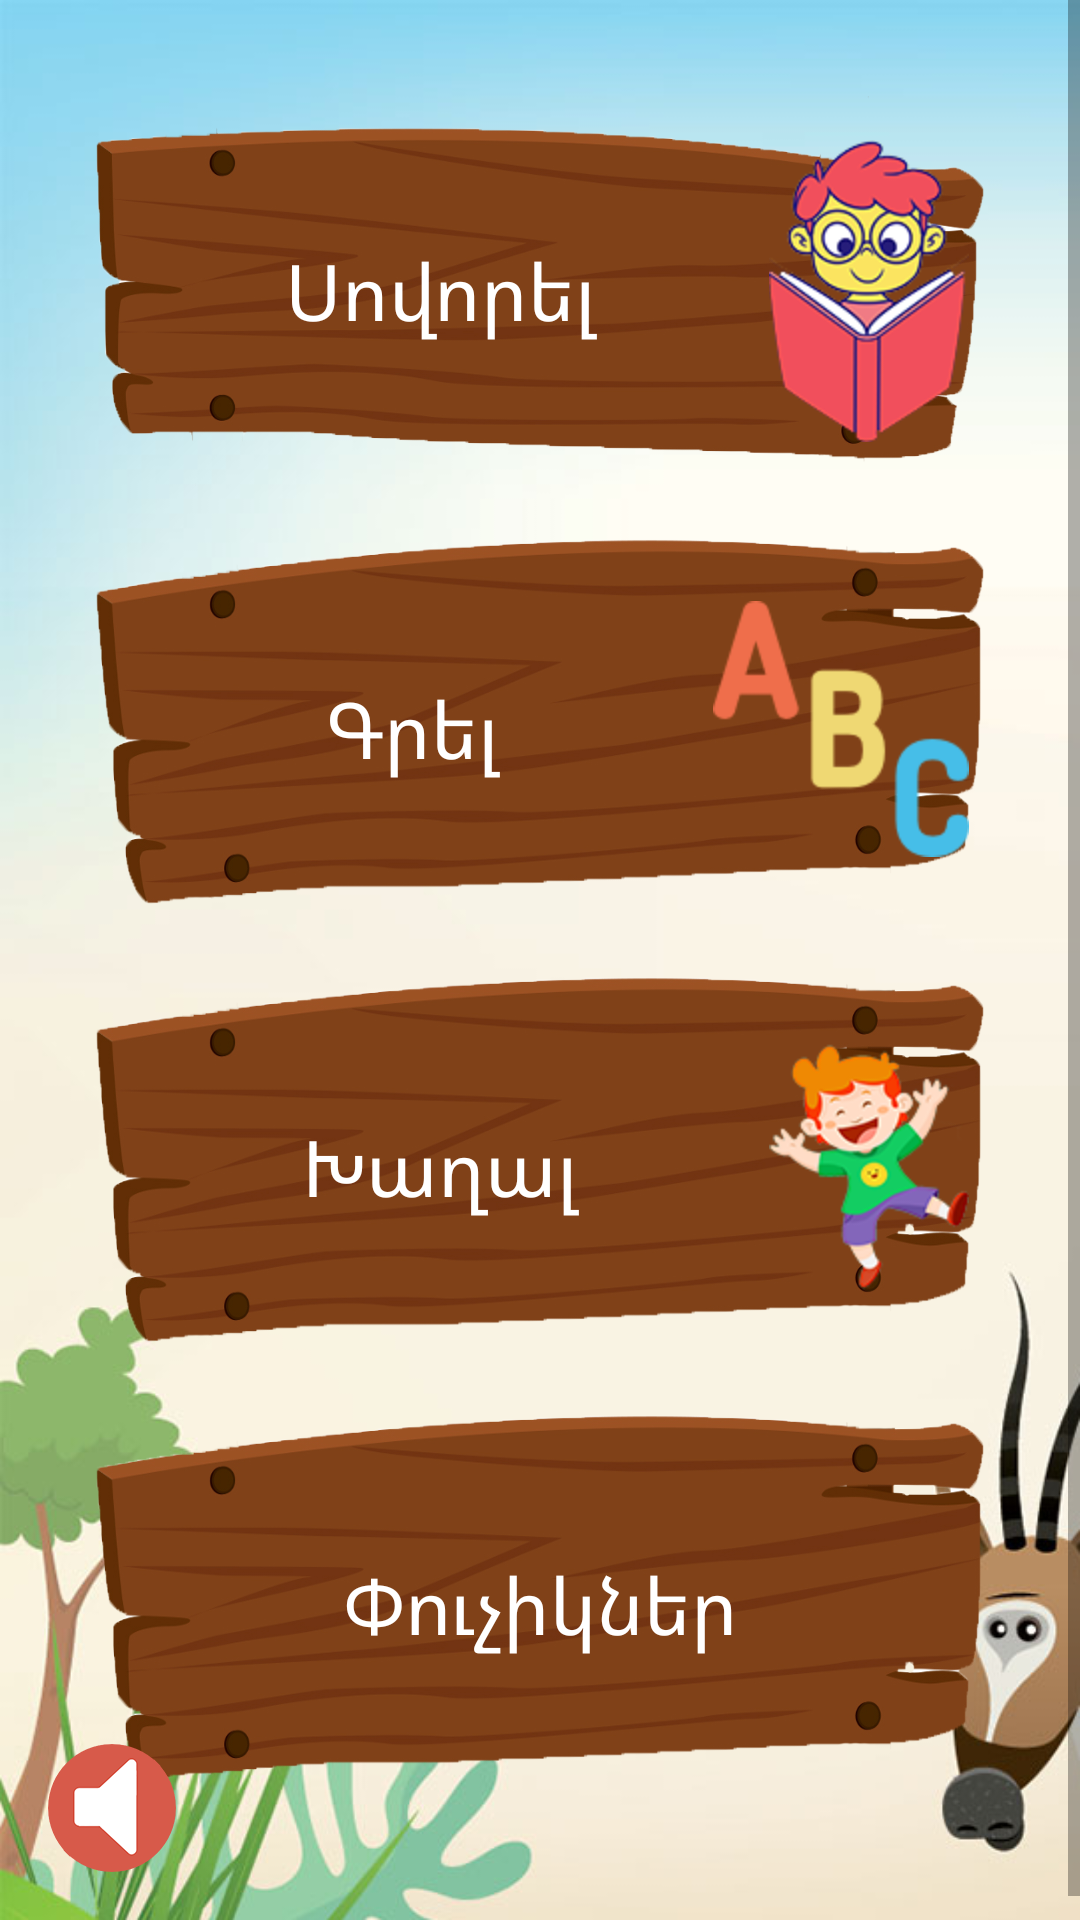

Icons on this 1080 × 1920 Android screen, each with the point to tap as (x,y):
learn: (869,291)
play: (869,1168)
write: (799,727)
